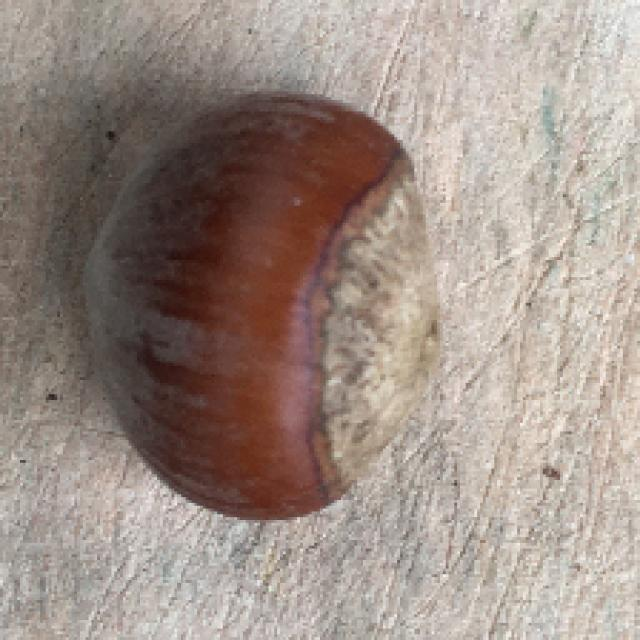qualityHazelnut: (73, 97, 447, 522)
